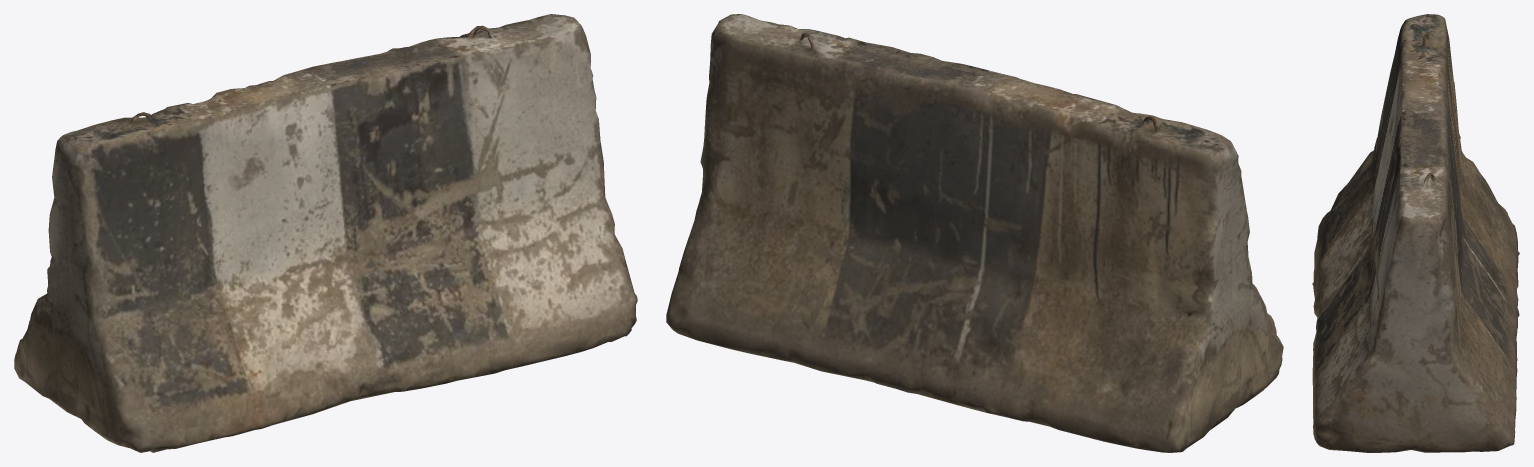
File: separateur_beton_lod0.glb
The picture shows the model from 3 angles, left to right: view 1: azimuth 30°, elevation 25°; view 2: azimuth 150°, elevation 25°; view 3: azimuth 270°, elevation 25°; orthographic projection. The views are drawn at different scales.
Parts seen in each view (by area): view 1: concrete_road_barrier; view 2: concrete_road_barrier; view 3: concrete_road_barrier.
Boxes of the visible parts, x1,y1,x2,y2 form: concrete_road_barrier: (14, 14, 637, 452); concrete_road_barrier: (666, 14, 1283, 452); concrete_road_barrier: (1312, 14, 1519, 452).
Size of the model in its own units: 1.54 by 0.8293 by 0.6387.
Materials: 1 (1 with a texture image).
